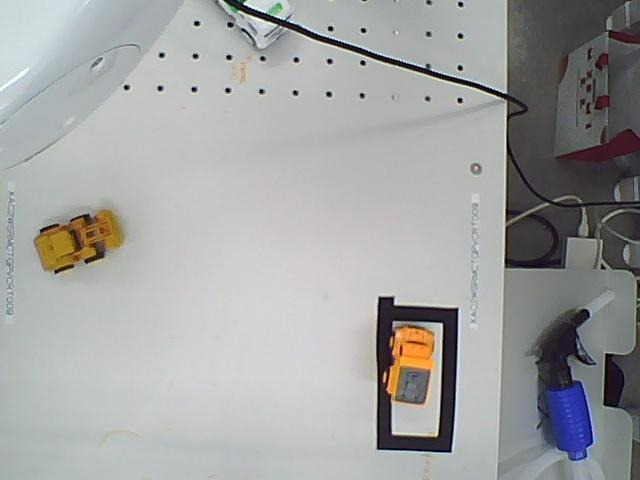Diesel car: (382, 323, 437, 408)
Electric car: (211, 0, 299, 53)
Gasoline car: (34, 206, 124, 276)
